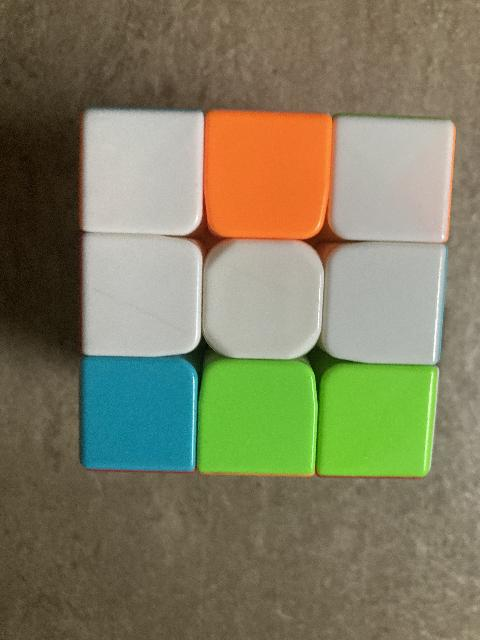Blue: (86, 361, 194, 471)
Green: (202, 364, 312, 470), (321, 366, 431, 472)
Orange: (208, 113, 328, 233)
White: (85, 115, 201, 233), (334, 118, 448, 235), (209, 242, 322, 360), (87, 239, 199, 353), (330, 245, 438, 359)
